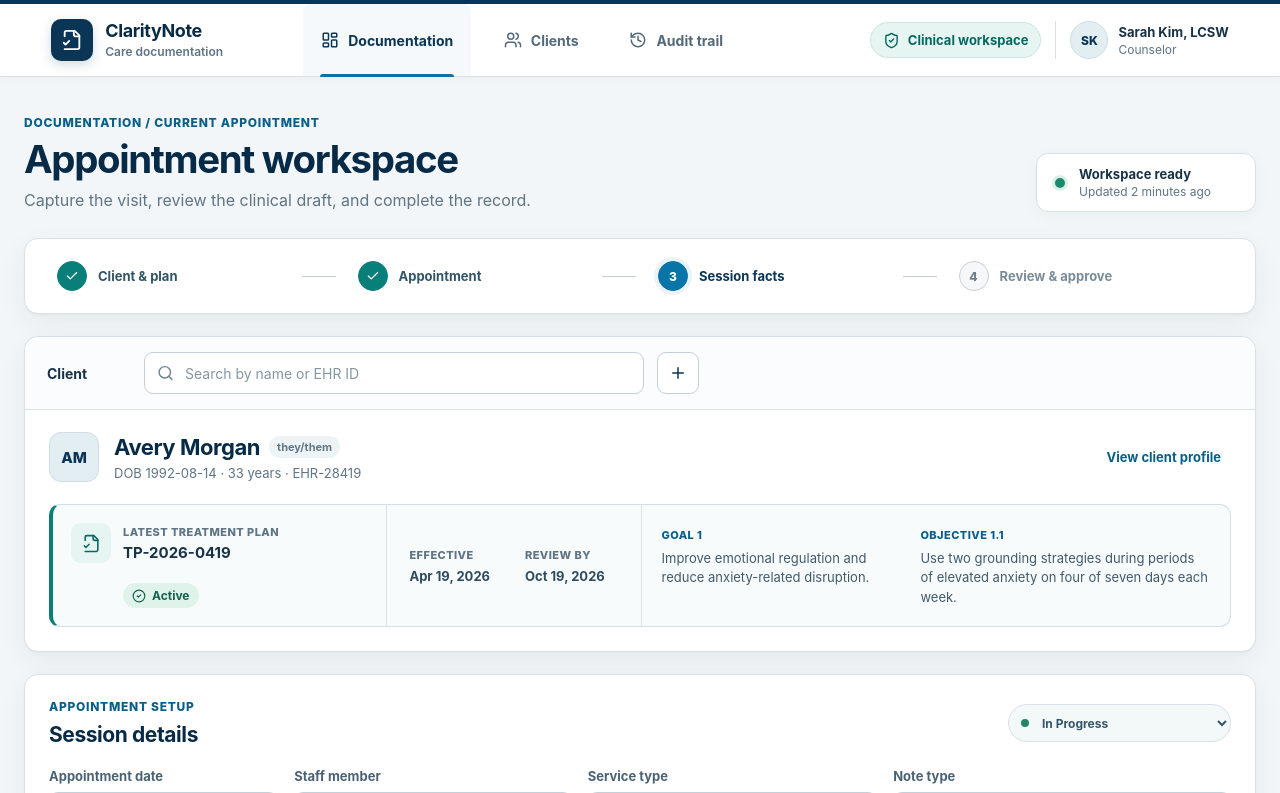
Test case: clinical documentation workspace › opens client details, logs a supervisor alert, and provides help guidance
Check: the heading "Appointment workspace" is shown, box [24, 138, 531, 180]
Click the button "View client profile" at (1164, 457), box [1096, 441, 1231, 473]
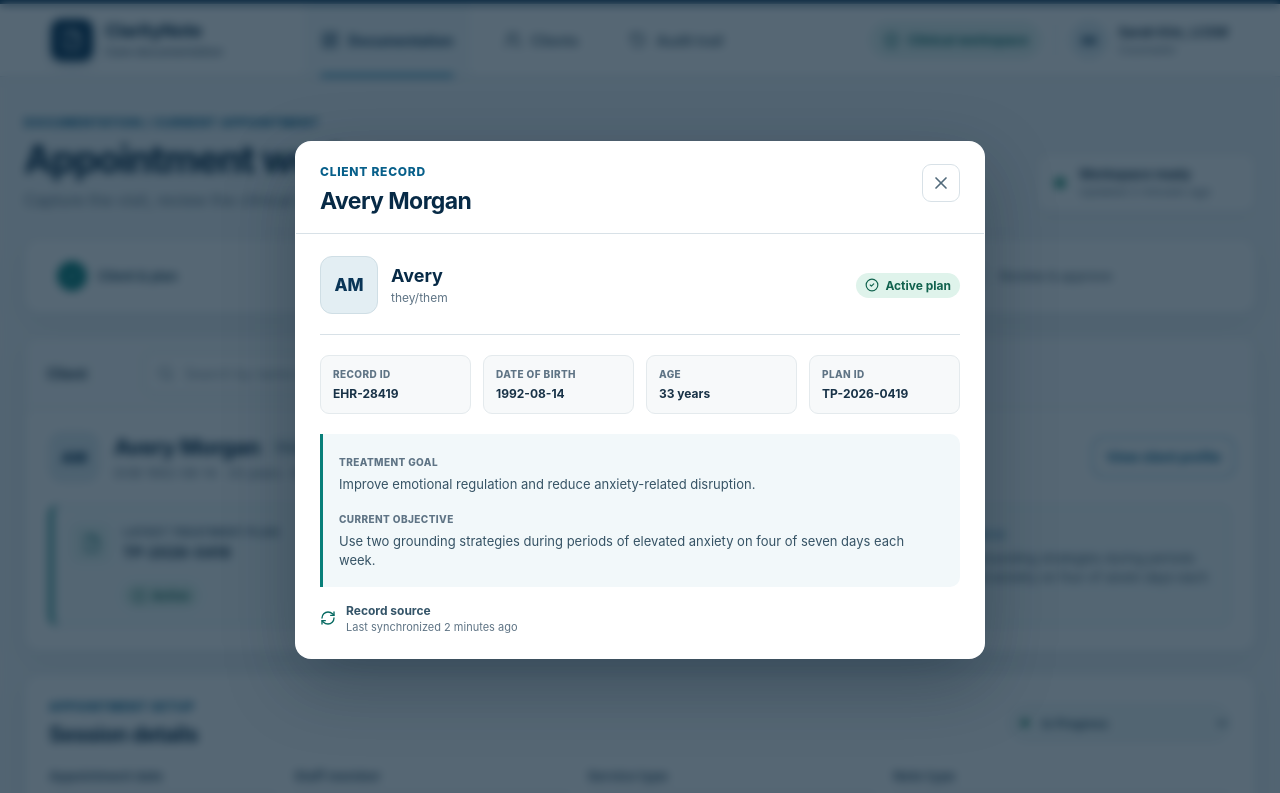
Check: the text "EHR-28419" is shown, box [333, 386, 398, 401]
Check: the text "TP-2026-0419" is shown, box [822, 386, 908, 401]
Click the button named "Close client profile" at (941, 183), box [922, 164, 960, 202]
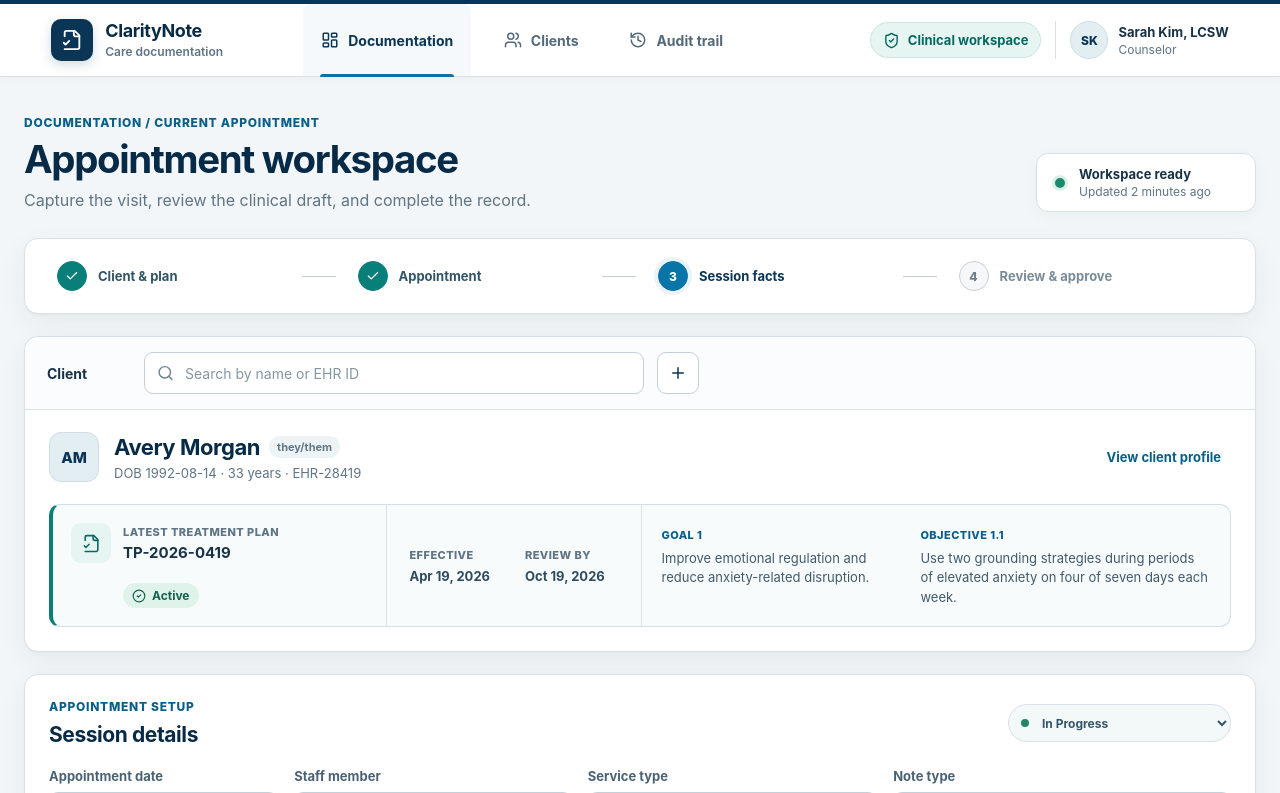
Click the field labelled "Client" at (394, 373), box [144, 352, 644, 394]
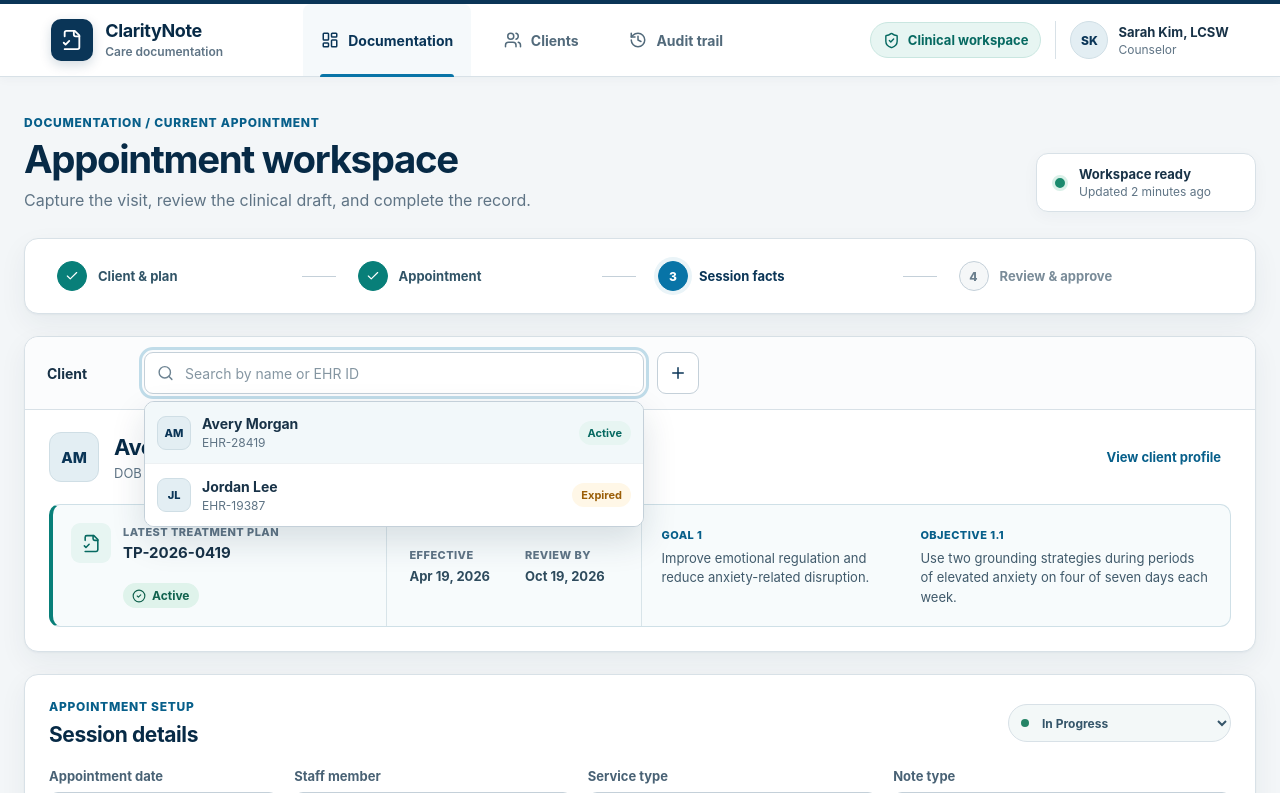
Click the option "JL Jordan Lee EHR-19387 expired" at (174, 495), box [145, 464, 643, 526]
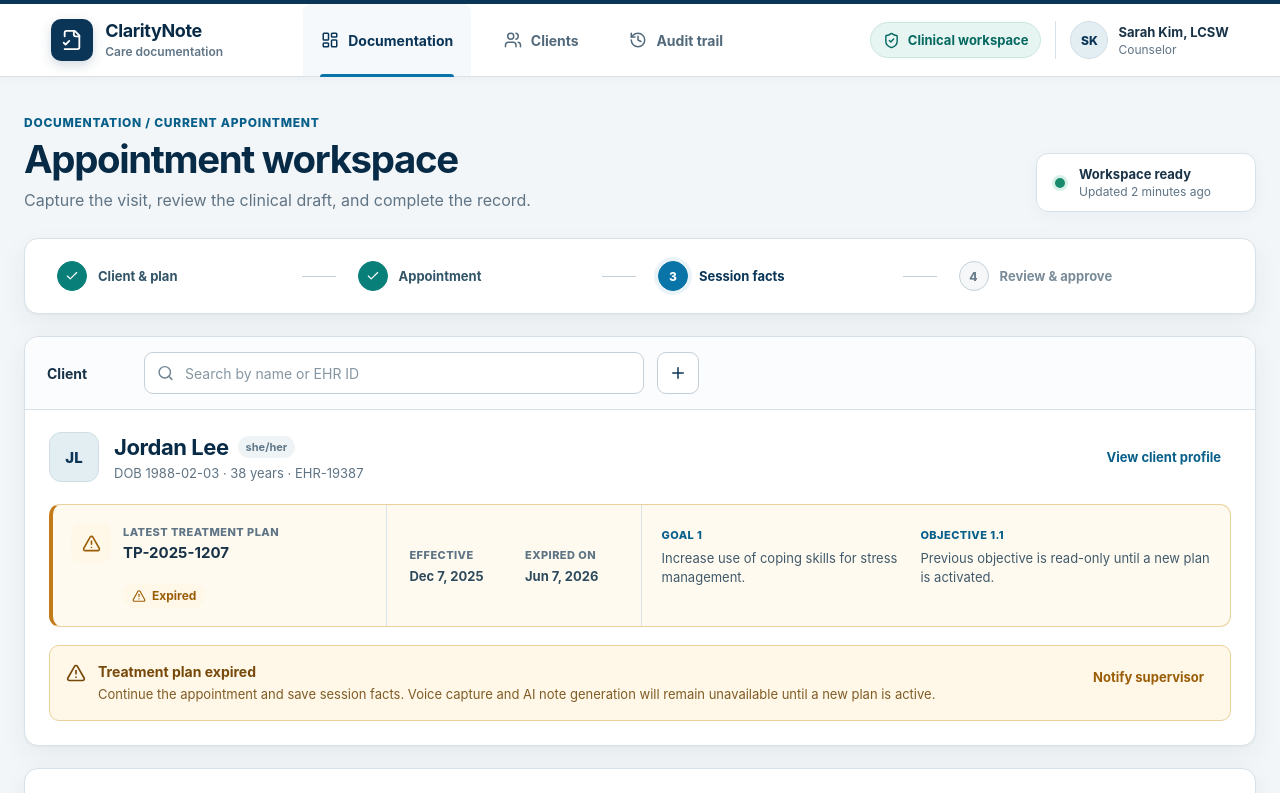
Click the button "Notify supervisor" at (1149, 677), box [1083, 661, 1214, 693]
(page scrolled)
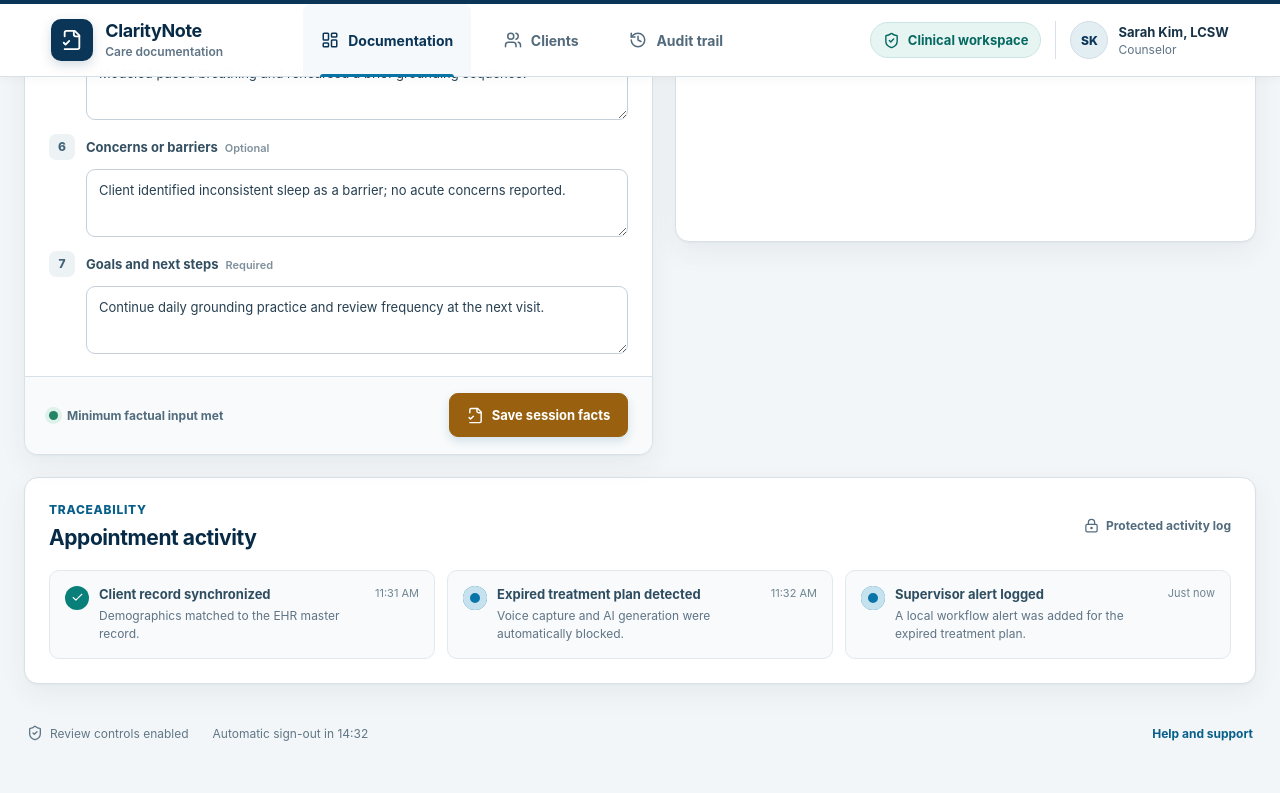
Check: the text "A local workflow alert was added for the expired treatment plan." is shown, box [895, 607, 1158, 643]
Click the button "Help and support" at (1203, 733), box [1152, 721, 1253, 746]
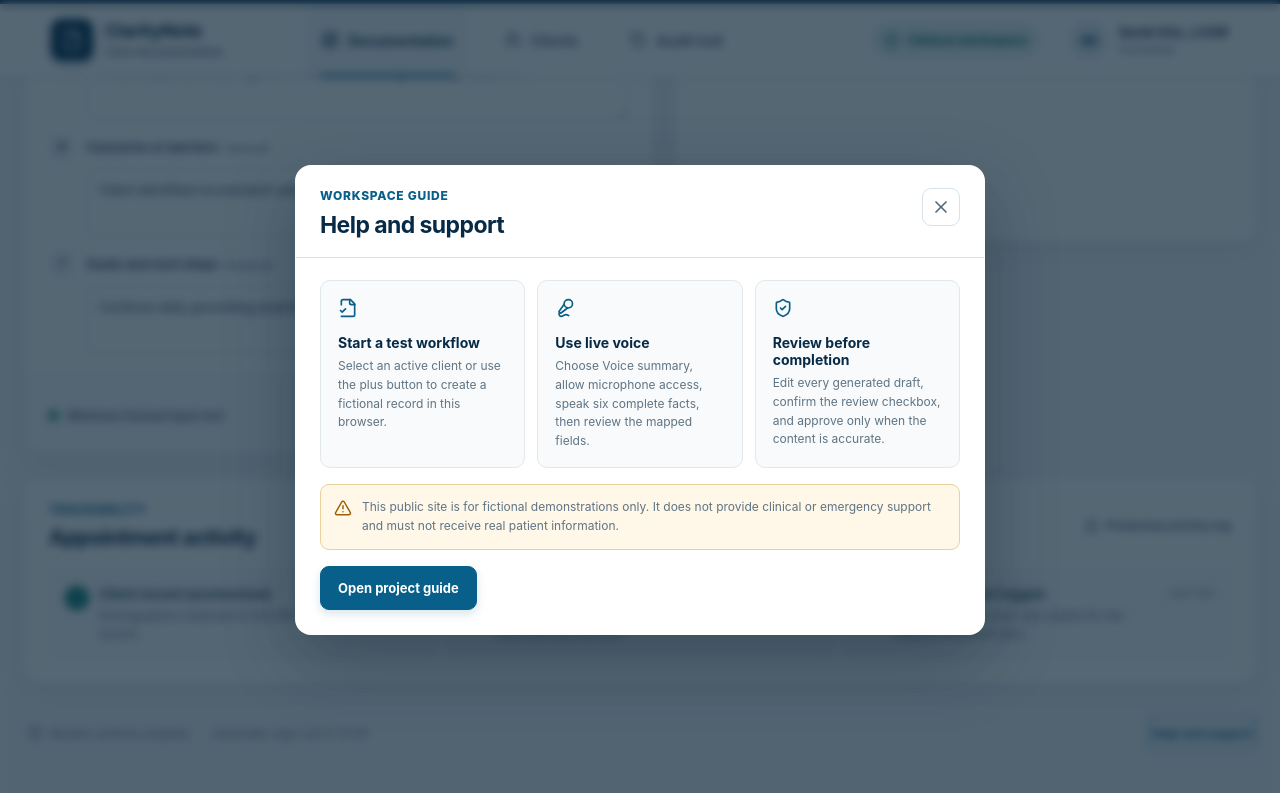
Check: the heading "Use live voice" is shown, box [555, 334, 650, 351]
